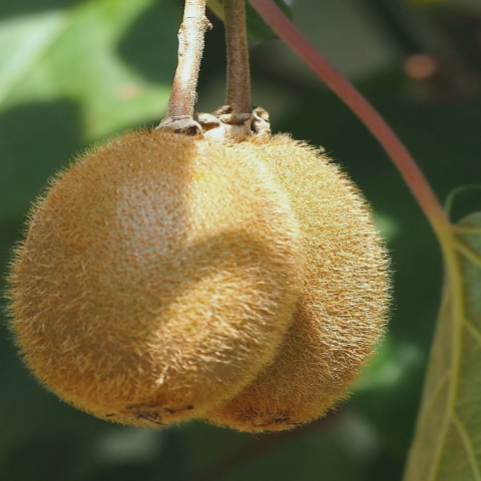kiwi: (4, 107, 303, 451)
